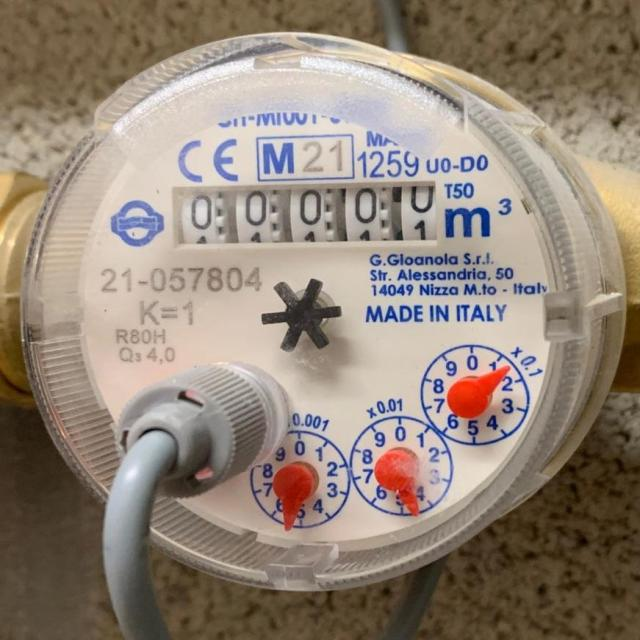gaz_meter: (35, 34, 615, 591)
indication: (173, 180, 440, 245)
